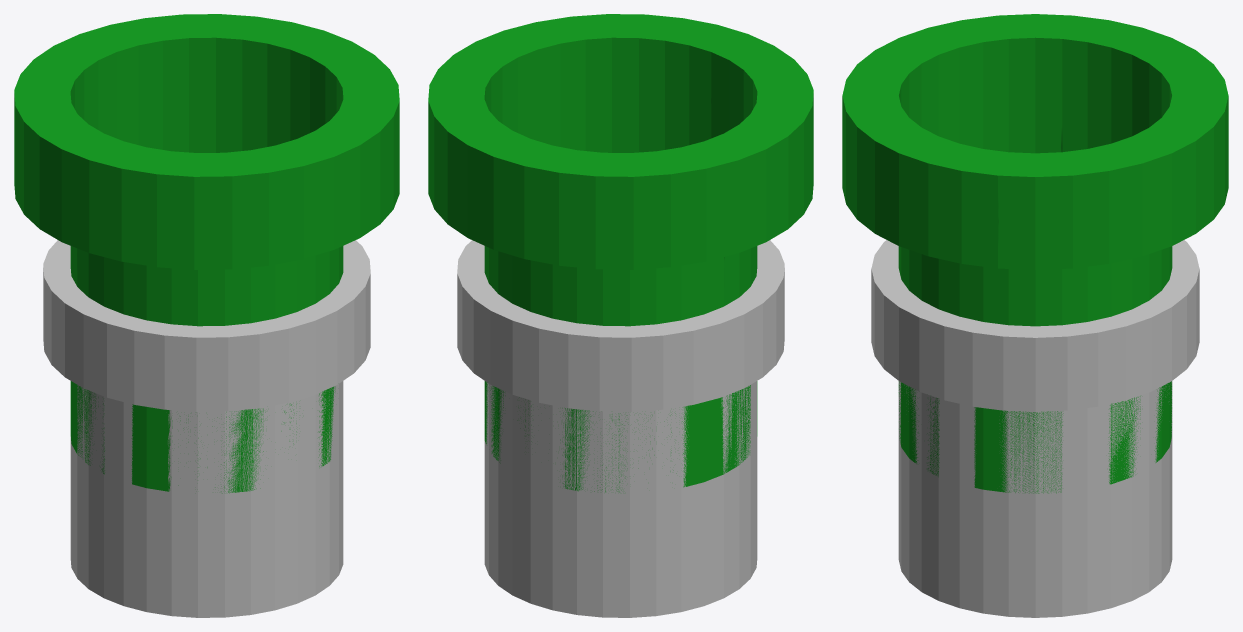
Rendered from pipe.obj.
3 views of the same model, side by side, from view 1: azimuth 30°, elevation 25°; view 2: azimuth 150°, elevation 25°; view 3: azimuth 270°, elevation 25° (orthographic).
Visible parts, largest first — view 1: pipe_円, cylinder_円柱; view 2: pipe_円, cylinder_円柱; view 3: pipe_円, cylinder_円柱.
Part boxes in pixels (<box>): pipe_円: <box>14,14,399,493</box>; cylinder_円柱: <box>43,240,370,617</box>; pipe_円: <box>428,14,813,492</box>; cylinder_円柱: <box>457,240,784,617</box>; pipe_円: <box>842,14,1228,493</box>; cylinder_円柱: <box>871,240,1199,617</box>.
Bounding box in the file's own units: 2.82 × 3.75 × 2.82.
Materials: 2 (1 with a texture image).
